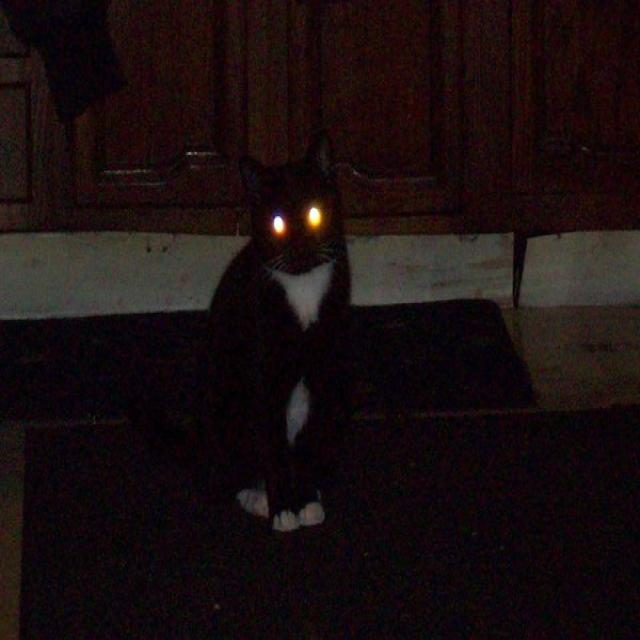Cat: (129, 131, 367, 542)
